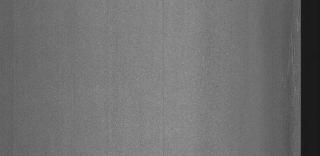silk spot: (277, 24, 299, 102)
